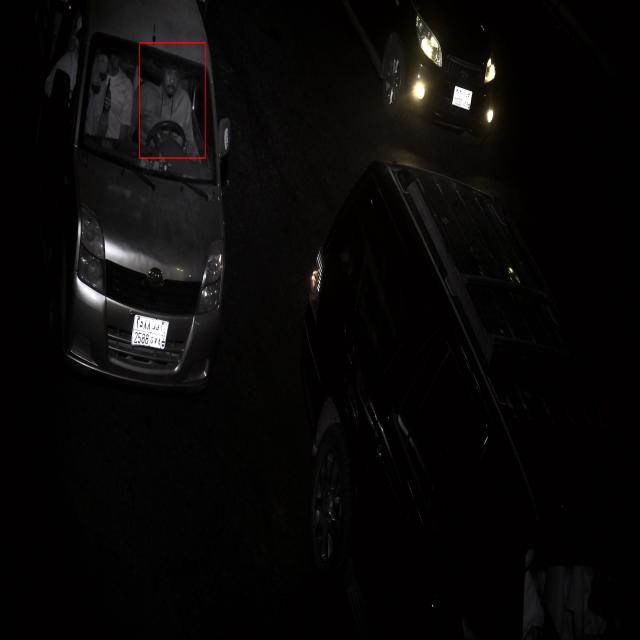windshield: (74, 21, 226, 207)
